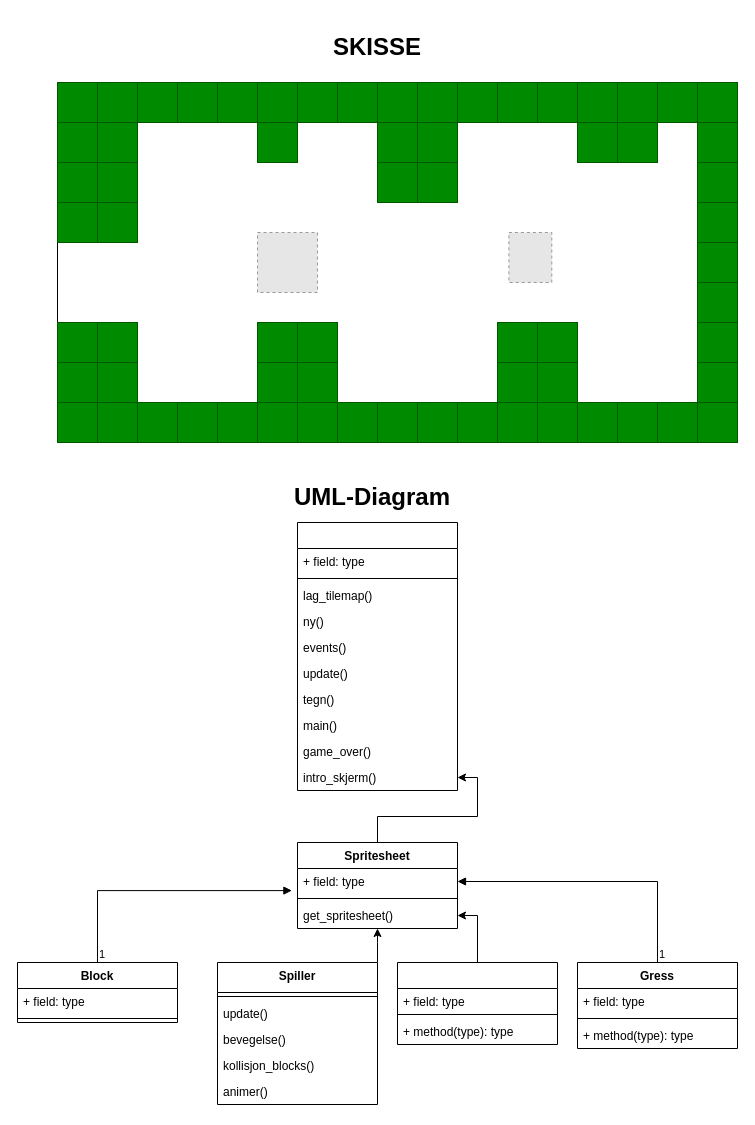
This 755x1125 diagram has some shape labels left out. Grey dashed boxes stand in for pictures. Here are the shapes that lost their labels. From the top down, the box of each, then its label:
(296, 522, 458, 790): Spill
(396, 962, 558, 1044): Fiende
